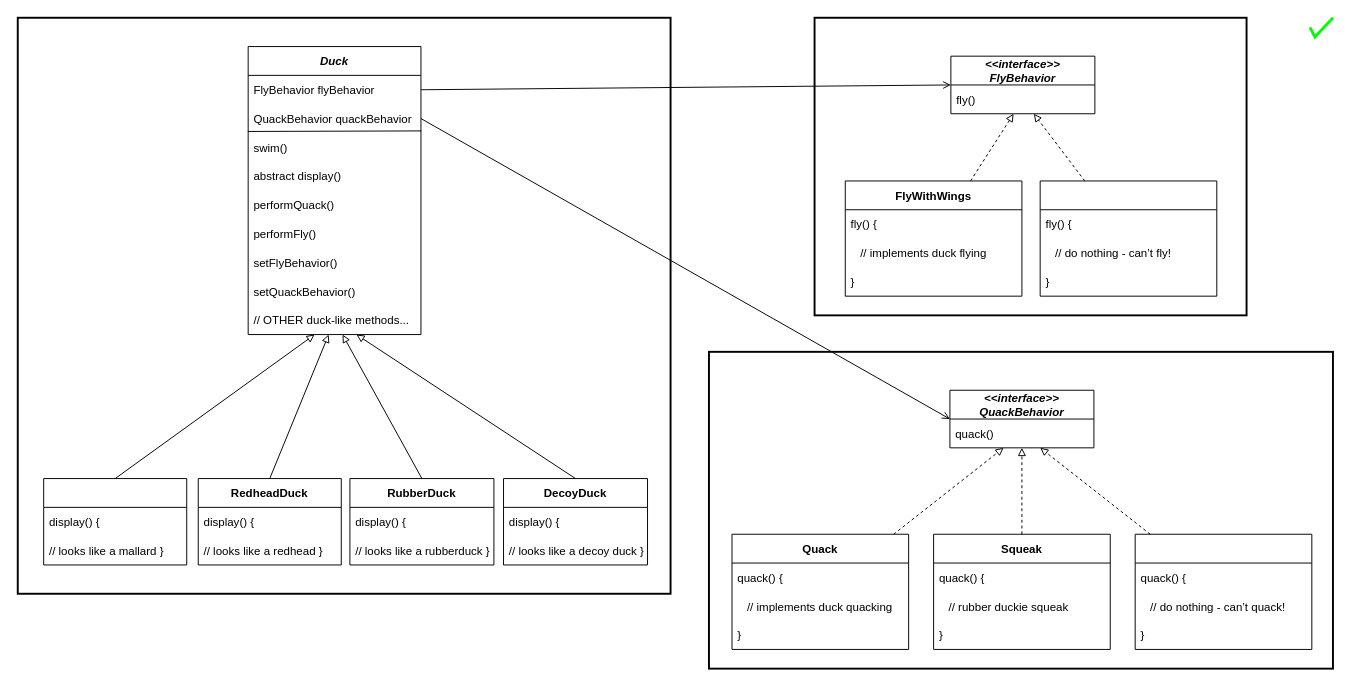
This 1351x686 diagram has some shape labels left out. Each missing label, with the box of its shape:
Encapsulated fly behavior: (813, 16, 1247, 316)
Encapsulated quack behavior: (708, 350, 1333, 669)
FlyNoWay: (1039, 180, 1217, 296)
MallardDuck: (43, 478, 187, 565)
MuteQuack: (1134, 533, 1312, 649)
